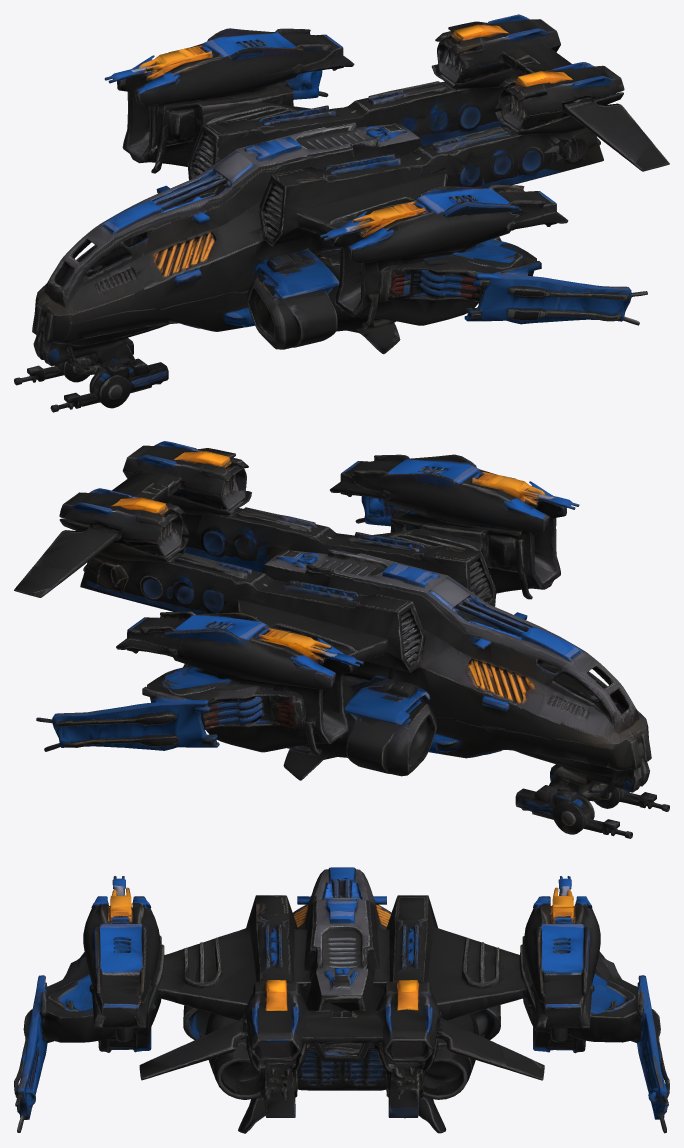
Rendered from gunship.glb.
3 renders of one model, top to bottom at view 1: azimuth 30°, elevation 25°; view 2: azimuth 150°, elevation 25°; view 3: azimuth 270°, elevation 25°, orthographic. The views are drawn at different scales.
Parts seen in each view (by area): view 1: Body, PodR, PodL, Gun; view 2: Body, PodL, PodR, Gun; view 3: Body, PodL, PodR.
Part boxes in pixels (x1,y1,x2,y2): Body: [32, 14, 661, 393]; PodR: [320, 143, 669, 329]; PodL: [104, 21, 486, 173]; Gun: [14, 337, 131, 412]; Body: [26, 441, 651, 819]; PodL: [14, 572, 363, 755]; PodR: [197, 448, 579, 599]; Gun: [552, 763, 669, 838]; Body: [151, 867, 530, 1133]; PodL: [516, 876, 669, 1133]; PodR: [14, 876, 172, 1132].
Bounding box in the file's own units: 1.9 × 0.7892 × 1.9.
Materials: 1 (1 with a texture image).
